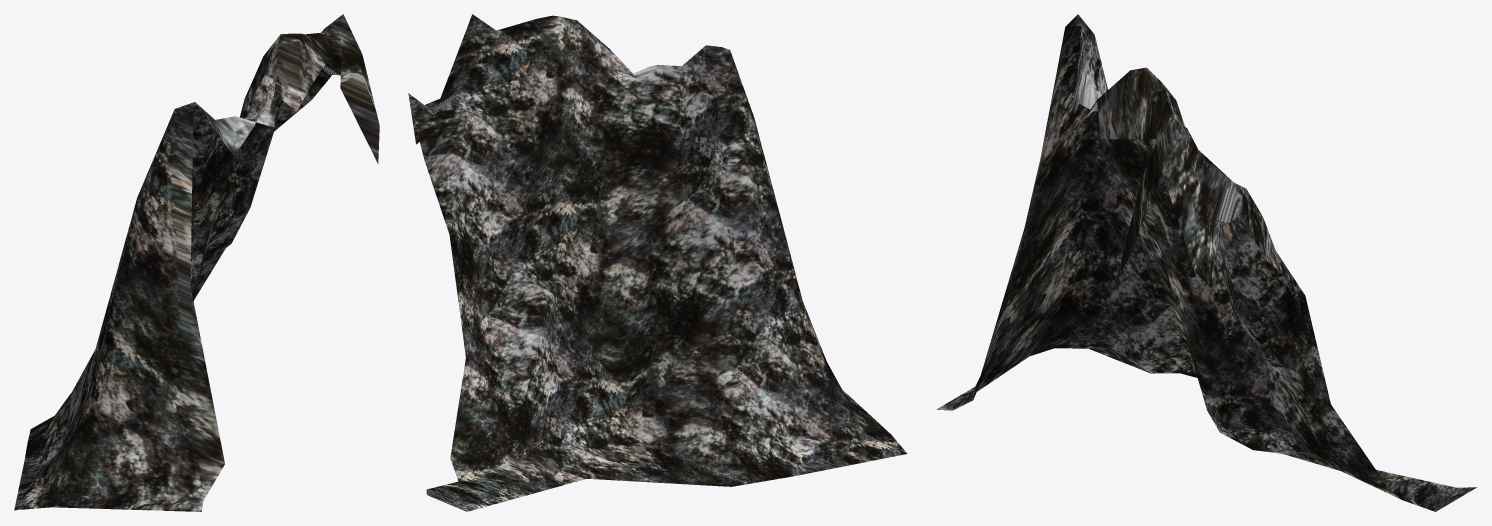
The model's file is OVERHILL_A_01_OBJECT377.fbx.
3 views of the same model, side by side, from view 1: azimuth 30°, elevation 25°; view 2: azimuth 150°, elevation 25°; view 3: azimuth 270°, elevation 25° (orthographic). The views are drawn at different scales.
Visible parts, largest first — view 1: OVERHILL_A_01_OBJECT377; view 2: OVERHILL_A_01_OBJECT377; view 3: OVERHILL_A_01_OBJECT377.
Boxes of the visible parts, bbox=[...] form: OVERHILL_A_01_OBJECT377: bbox=[14, 14, 379, 511]; OVERHILL_A_01_OBJECT377: bbox=[408, 14, 907, 511]; OVERHILL_A_01_OBJECT377: bbox=[937, 14, 1477, 511].
Bounding box in the file's own units: 348218 × 302177 × 333011.
1 material, 1 textured.
